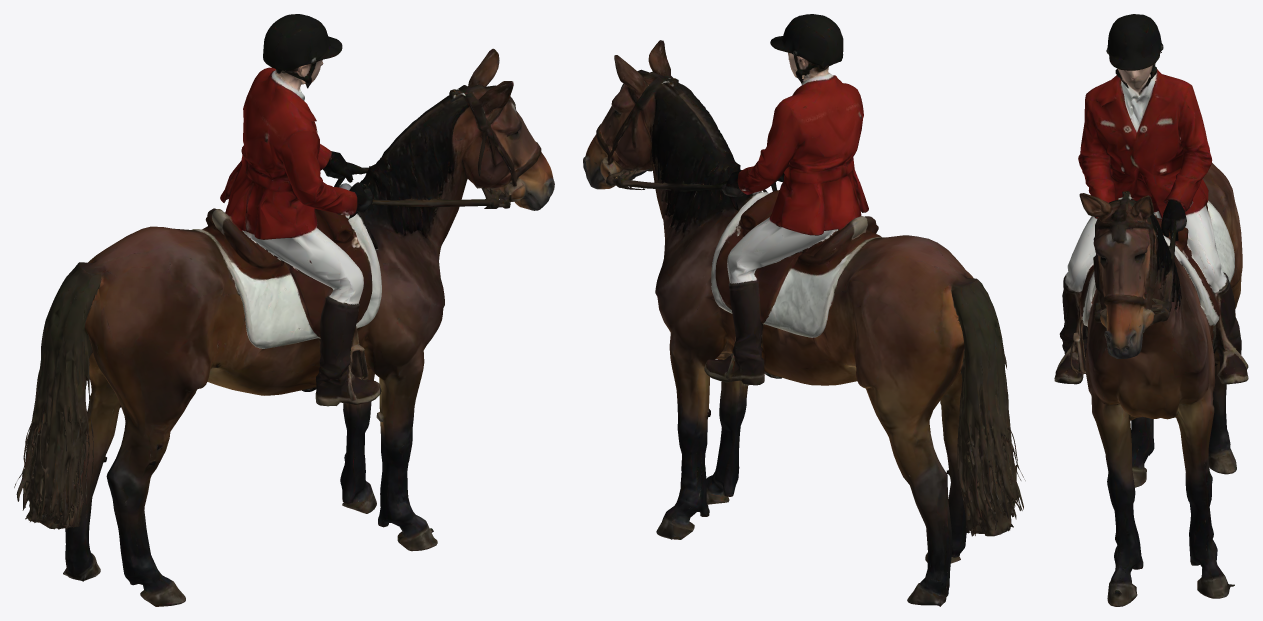
The model's file is cheval.glb.
3 views of the same model, side by side, from view 1: azimuth 30°, elevation 25°; view 2: azimuth 150°, elevation 25°; view 3: azimuth 270°, elevation 25° (orthographic). The views are drawn at different scales.
Bounding box in the file's own units: 0.8453 × 0.8907 × 0.2961.
Materials: 1 (1 with a texture image).
